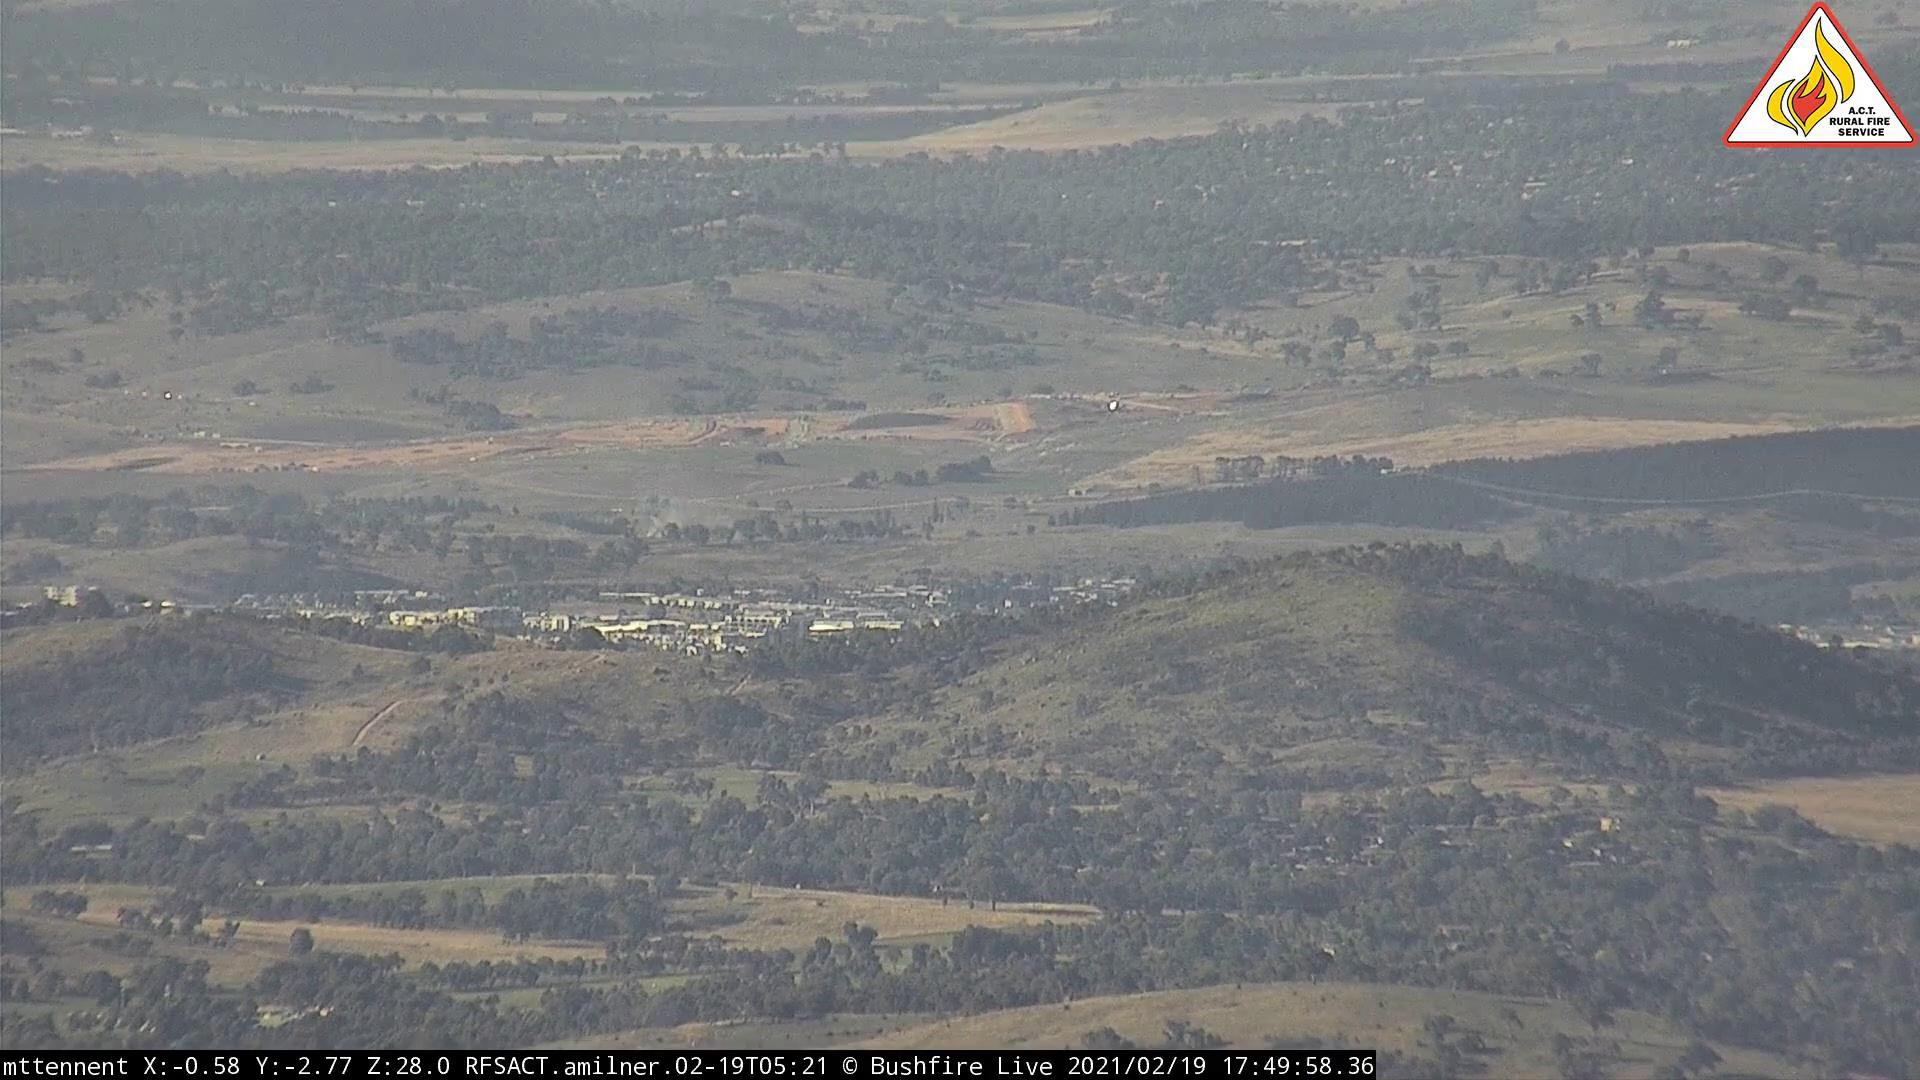Smoke: (612, 498, 691, 541)
